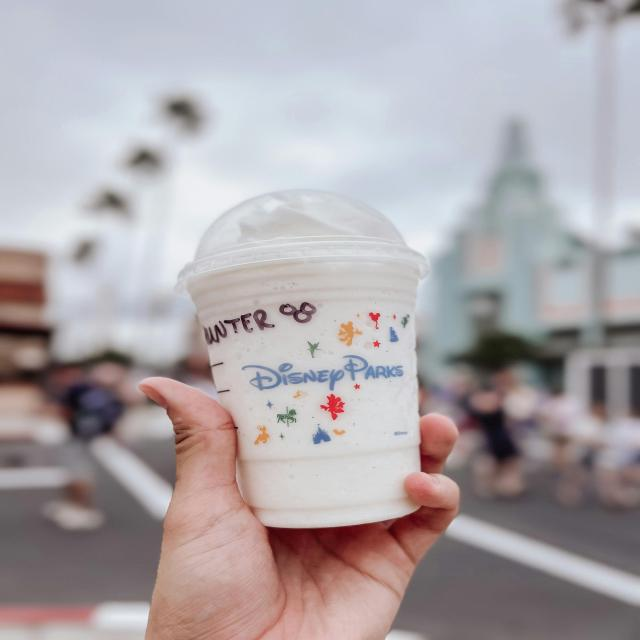cup: (172, 188, 433, 532)
